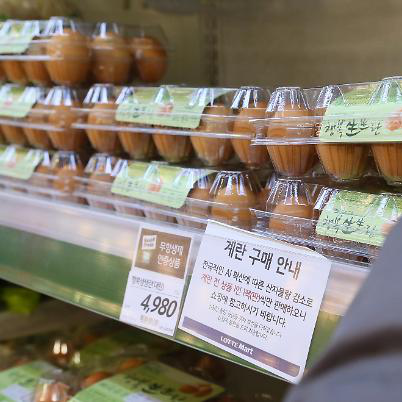egg: (1, 14, 402, 263)
